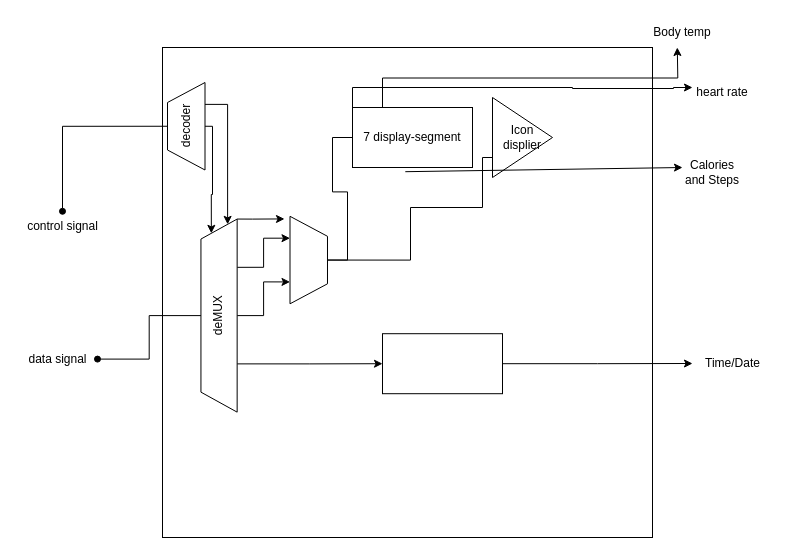
Some shapes in this 789 by 555 pixel diagram are drawn without their labels. The centre of each missing label's shape, as x and y in pixels:
"7 display segment for Date/Time" belongs at [442,363].
"encoder" belongs at [308,259].
